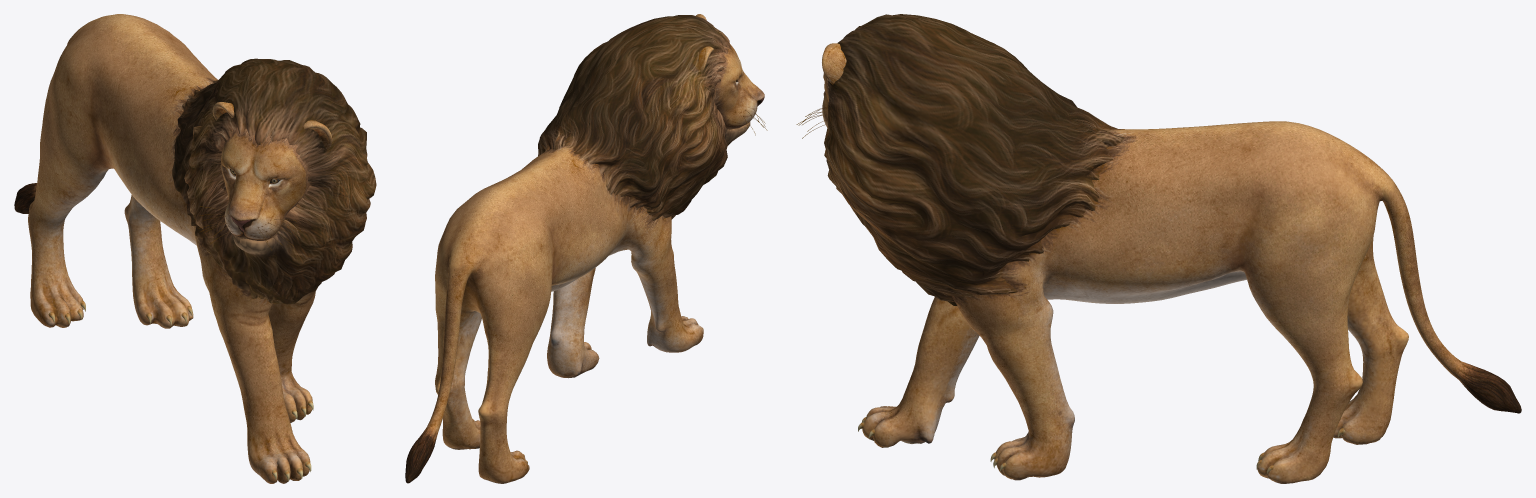
Rendered from Singa Asset.fbx.
3 renders of one model, left to right at view 1: azimuth 30°, elevation 25°; view 2: azimuth 150°, elevation 25°; view 3: azimuth 270°, elevation 25°, orthographic. The views are drawn at different scales.
Parts seen in each view (by area): view 1: Singa; view 2: Singa; view 3: Singa.
Part boxes in pixels (box(x1,y1,x2,y2)): Singa: box(14, 14, 376, 483); Singa: box(405, 14, 767, 483); Singa: box(796, 14, 1521, 483).
Size of the model in its own units: 150 by 284 by 444.
Materials: 1 (1 with a texture image).
